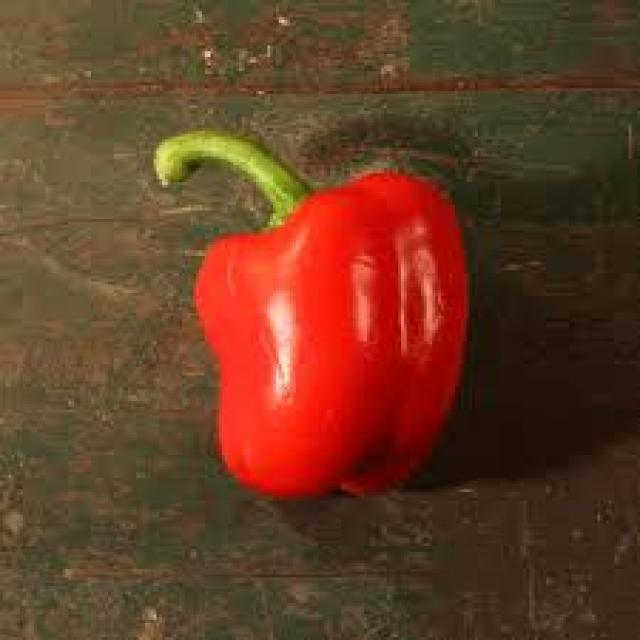Pepper: (193, 173, 473, 501)
